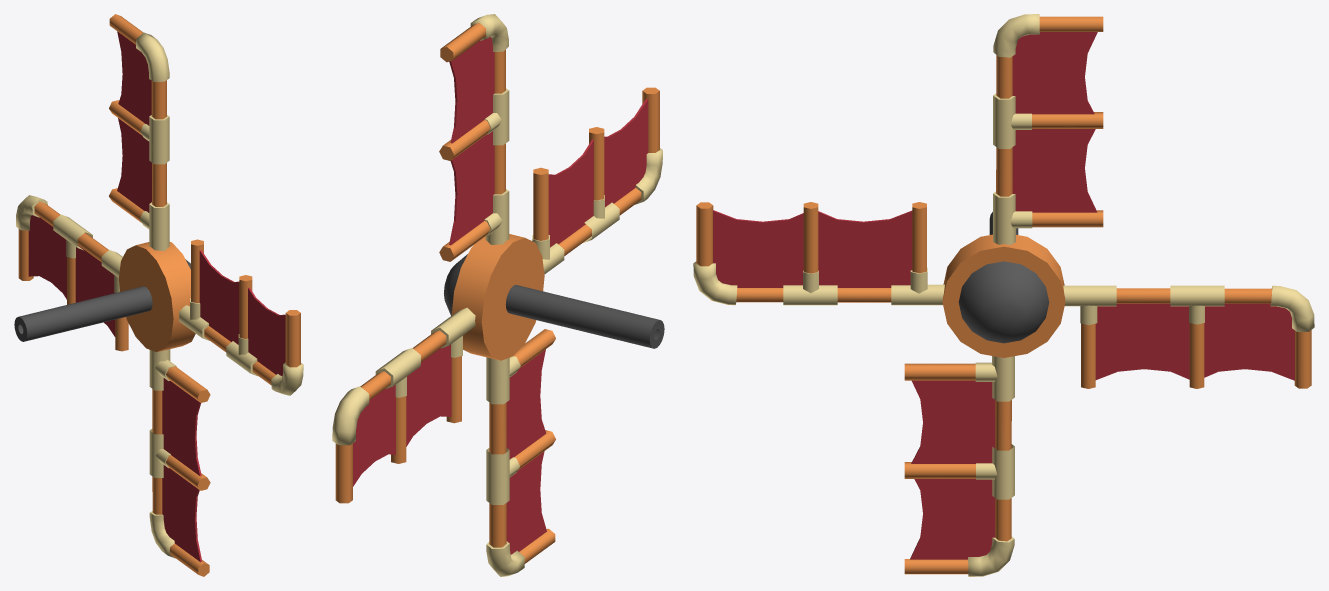
File: Helice.fbx
The picture shows the model from 3 angles, left to right: view 1: azimuth 30°, elevation 25°; view 2: azimuth 150°, elevation 25°; view 3: azimuth 270°, elevation 25°; orthographic projection. The views are drawn at different scales.
Visible parts, largest first — view 1: Circle.006_Circle.007; view 2: Circle.006_Circle.007; view 3: Circle.006_Circle.007.
Part boxes in pixels (box(x1,y1,x2,y2)): Circle.006_Circle.007: box(14, 14, 303, 576); Circle.006_Circle.007: box(332, 14, 664, 576); Circle.006_Circle.007: box(693, 14, 1314, 576).
Size of the model in its own units: 387 by 1026 by 1026.
